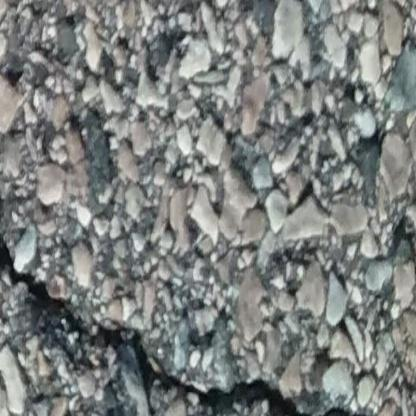Cracks: (0, 178, 384, 416)
